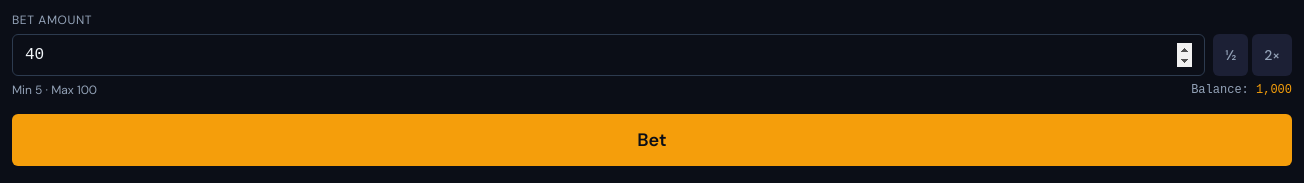
BetControls › halve and double buttons compute correctly and respect bounds
What coordinates should you click on to do the following:
click the button named "halve bet"
I would click on:
 (1231, 55)
Its box is left=1213, top=34, right=1248, bottom=76.
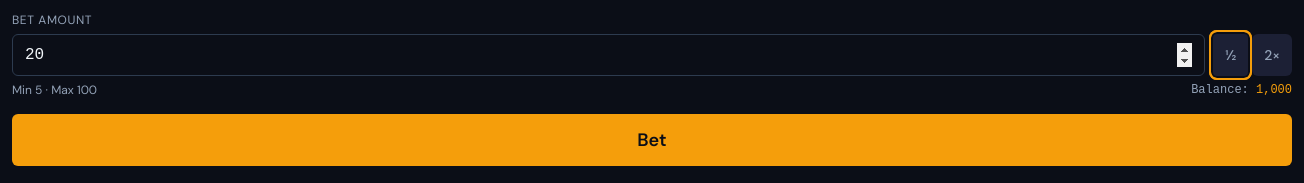
Expected: the number field labelled "Bet amount" holds "20", left=12, top=34, right=1205, bottom=76
What coordinates should you click on to do the following:
click the button named "double bet"
I would click on:
 (1272, 55)
Its box is left=1252, top=34, right=1292, bottom=76.
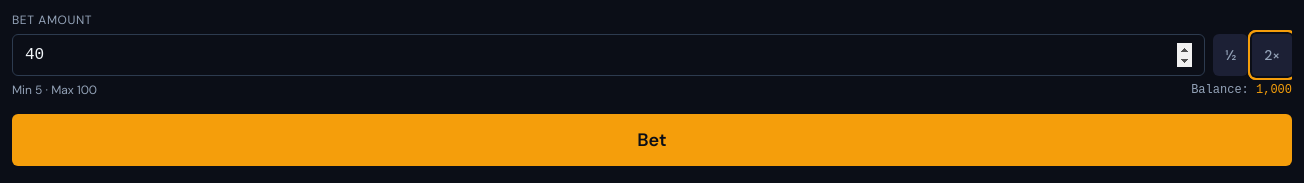
Expected: the number field labelled "Bet amount" holds "40", left=12, top=34, right=1205, bottom=76
What coordinates should you click on to do the following:
click the button named "double bet"
I would click on:
 (1272, 55)
Its box is left=1252, top=34, right=1292, bottom=76.
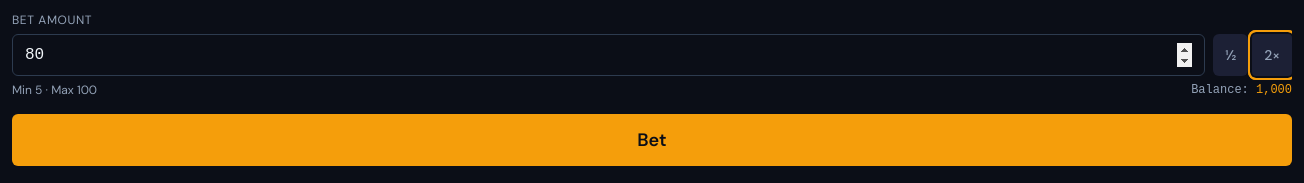
Expected: the number field labelled "Bet amount" holds "80", left=12, top=34, right=1205, bottom=76
What coordinates should you click on to do the following:
click the button named "double bet"
I would click on:
 (1272, 55)
Its box is left=1252, top=34, right=1292, bottom=76.
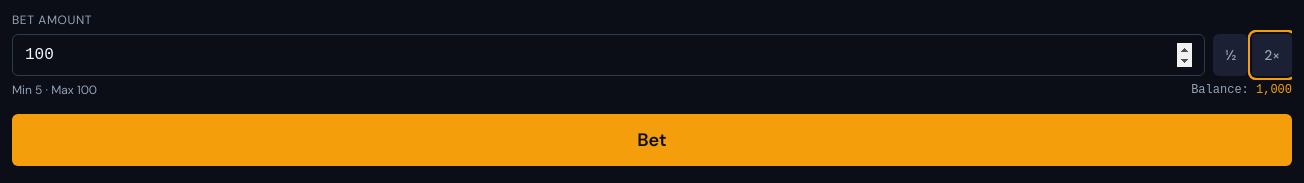
Expected: the number field labelled "Bet amount" holds "100", left=12, top=34, right=1205, bottom=76
